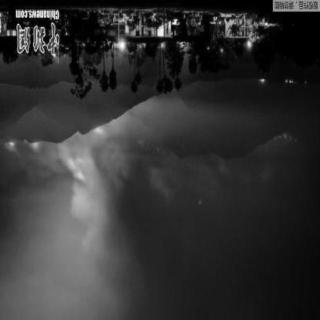Fire: (9, 117, 130, 223)
